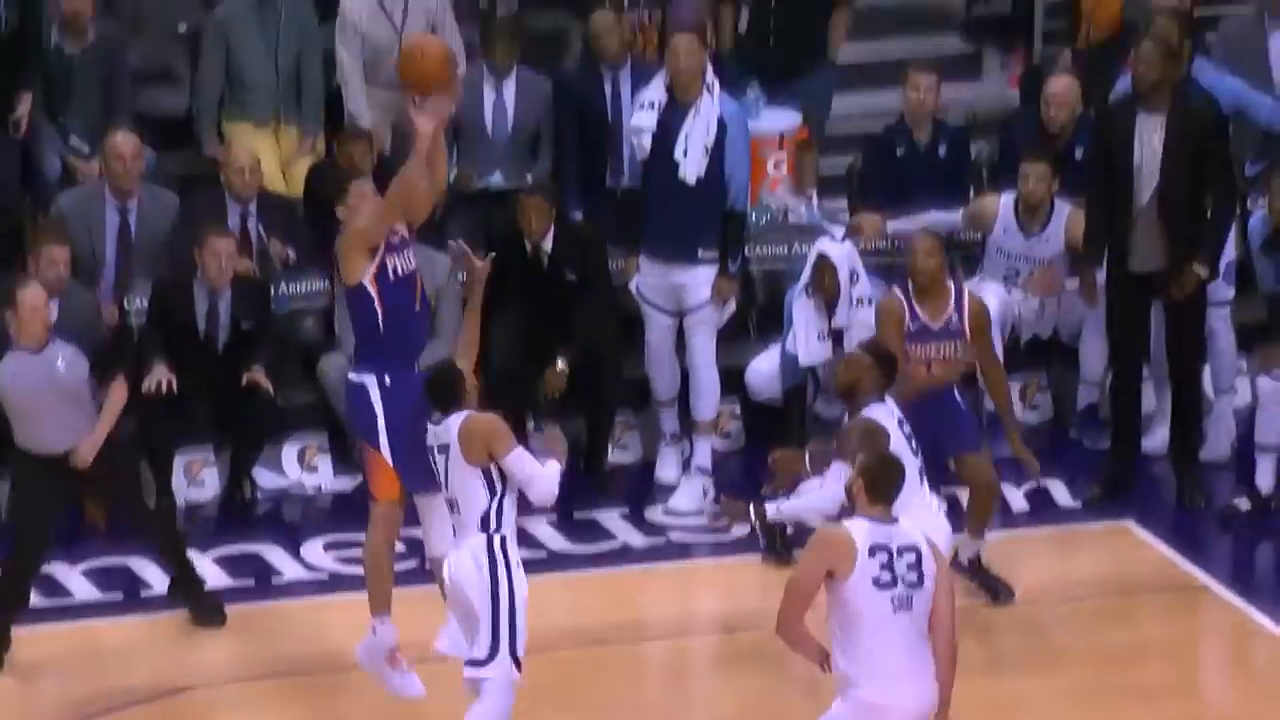ball: (391, 33, 466, 92)
